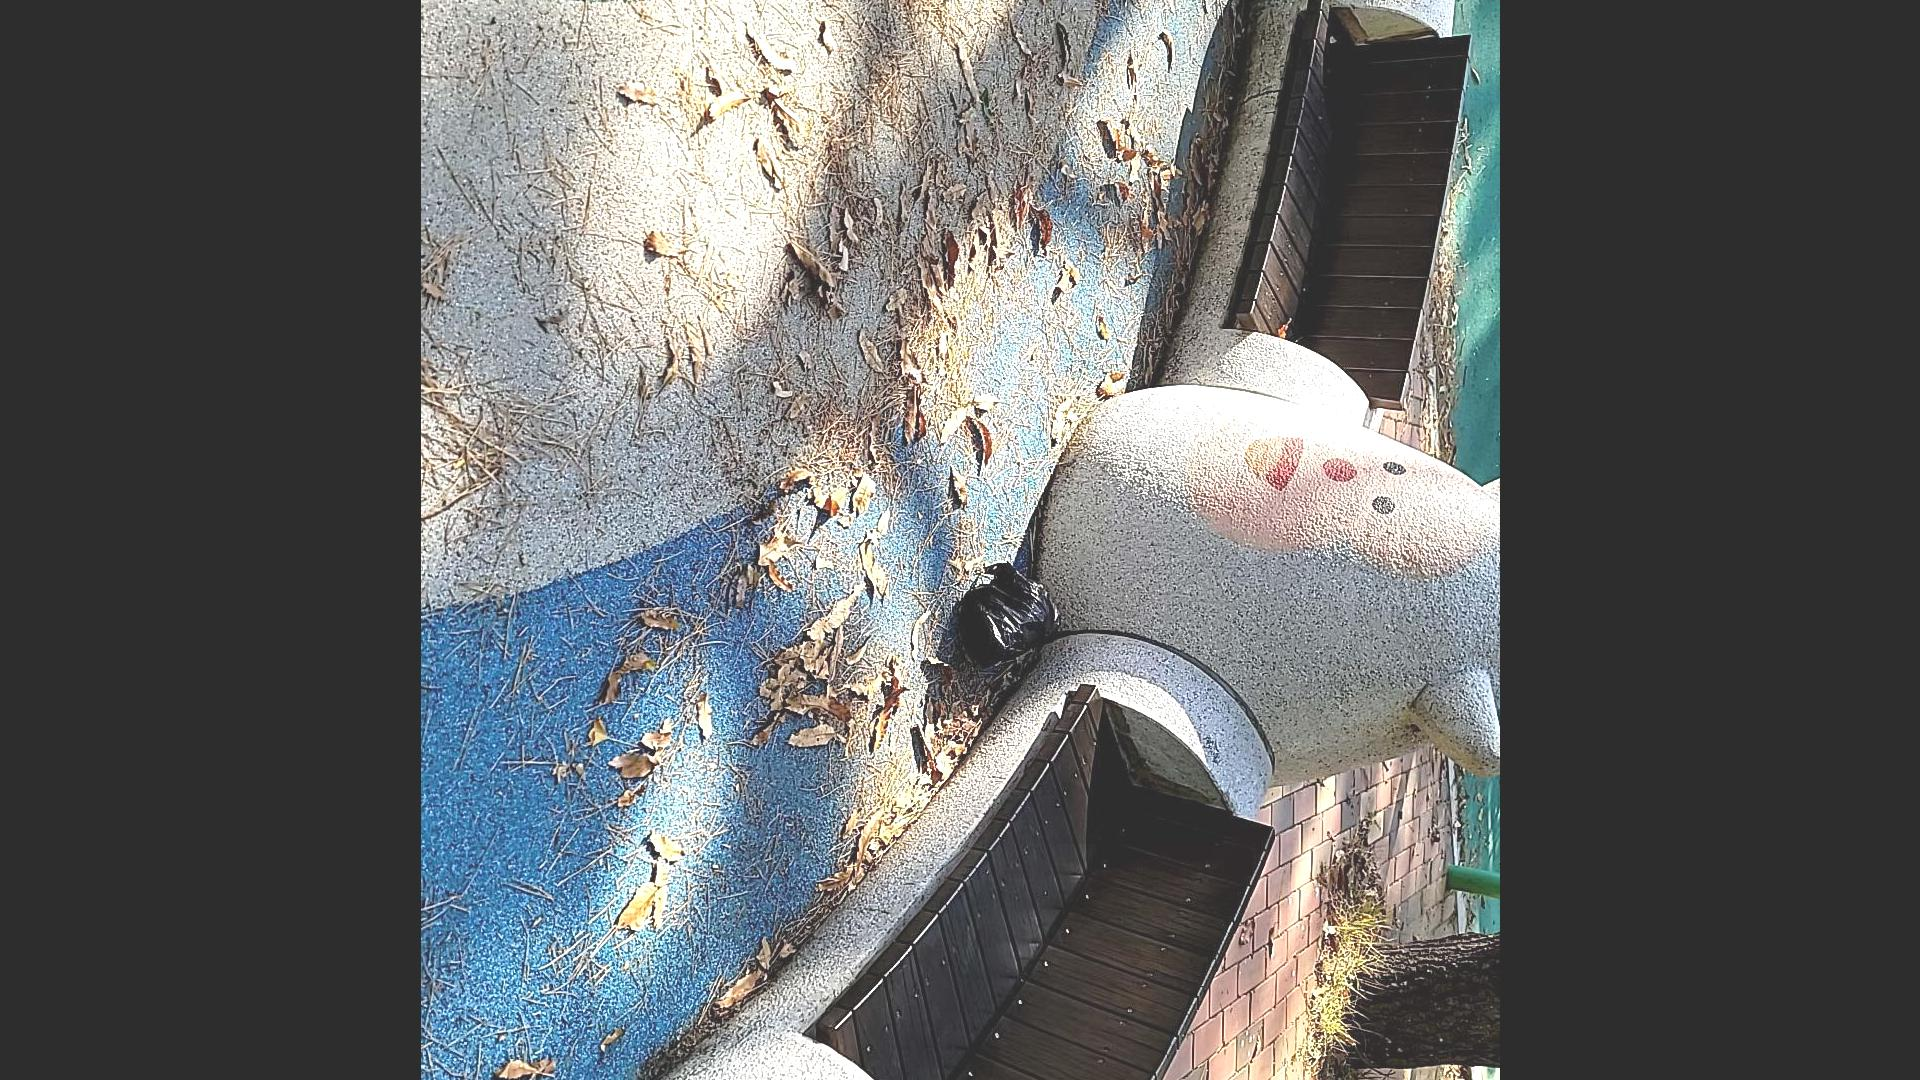black_bag: (947, 555, 1063, 676)
